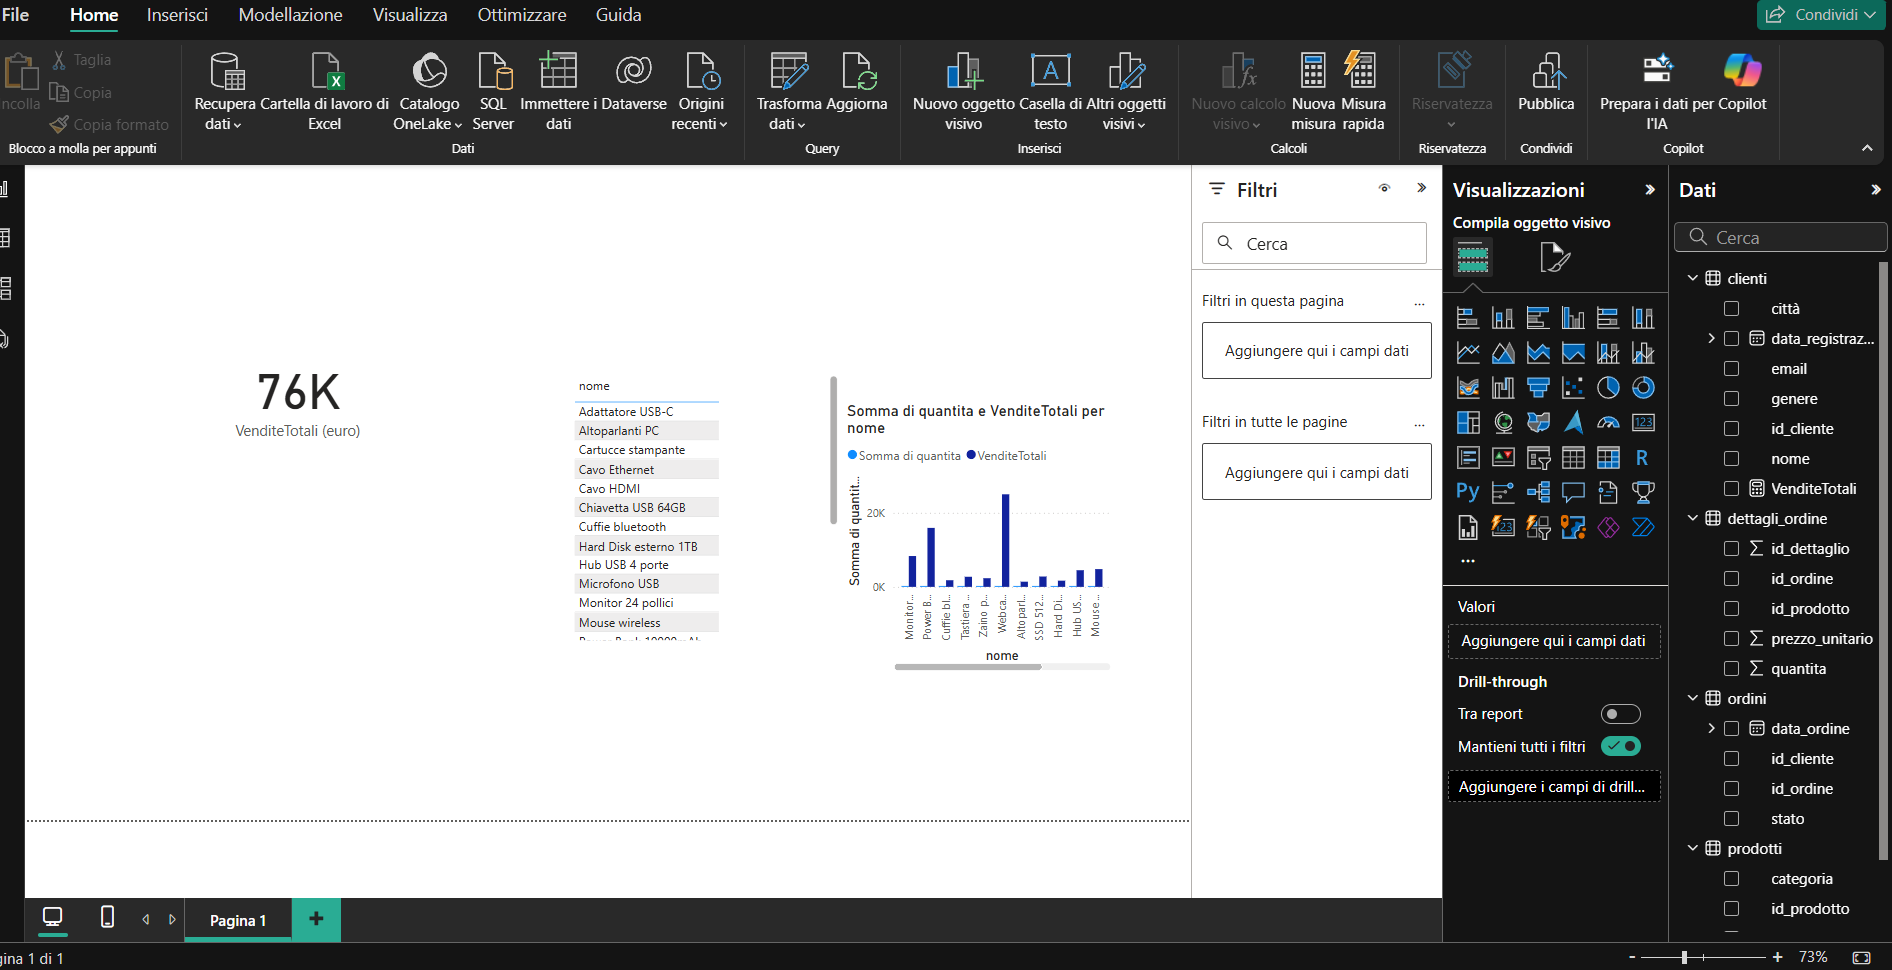

Layout of this report page (visuals, bound fields, positions):
{"tool":"powerbi","page":{"name":"Pagina 1","canvas":[1280,720],"ordinal":0},"visuals":[{"type":"tableEx","fields":{"Values":["prodotti.nome"]},"box":[596.7,226.9,300,300],"z":0},{"type":"clusteredColumnChart","fields":{"Y":["Sum(dettagli_ordine.quantita)","clienti.VenditeTotali"],"Category":["prodotti.nome"]},"box":[897.4,259.3,299.1,300.5],"z":1000},{"type":"card","fields":{"Values":["clienti.VenditeTotali"]},"box":[150,103.5,300,300],"z":1001}]}

Visuals, with their boxes on the page's 1280x720 design canvas (x1, y1, x2, y2). These are canvas units, not pixel positions in the 1892x970 screenshot, which may show the page scaled, cropped or inside an application window:
tableEx - prodotti.nome: bbox=[597, 227, 897, 527]
clusteredColumnChart - Sum(dettagli_ordine.quantita) x clienti.VenditeTotali: bbox=[897, 259, 1196, 560]
card - clienti.VenditeTotali: bbox=[150, 104, 450, 404]
